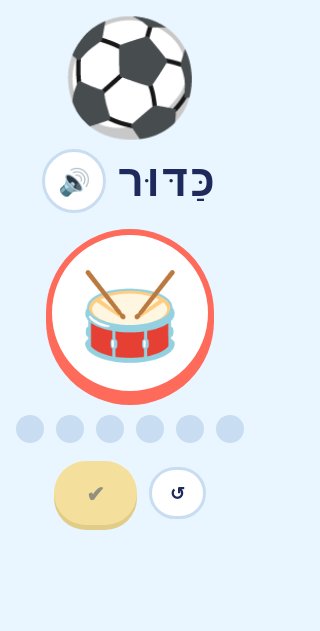
Test: ClapGame › accepts the right number of claps
Click the button "🥁": (130, 313) [46,229,214,397]
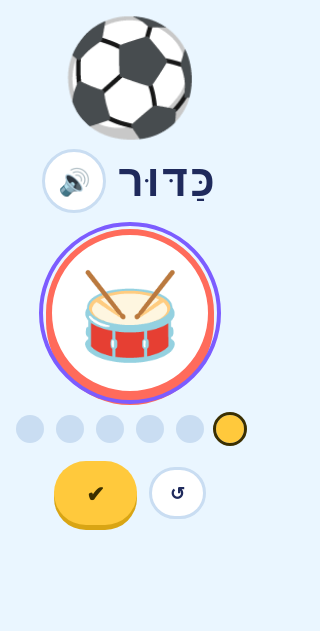
Click the button "🥁": (130, 313) [46,229,214,397]
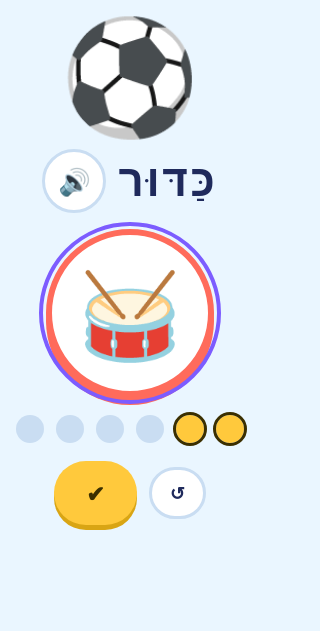
Click the button with class "cta": (95, 493) [54,461,137,525]
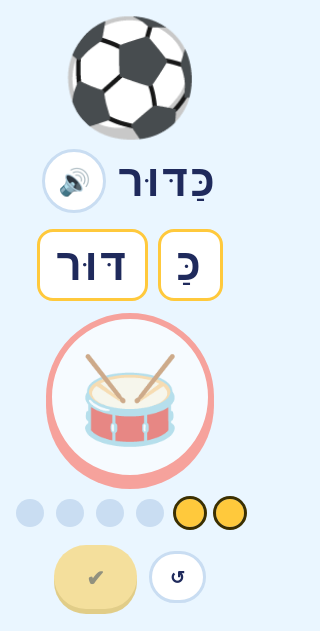
Expected: the button "🥁" is disabled, [46,313,214,481]
